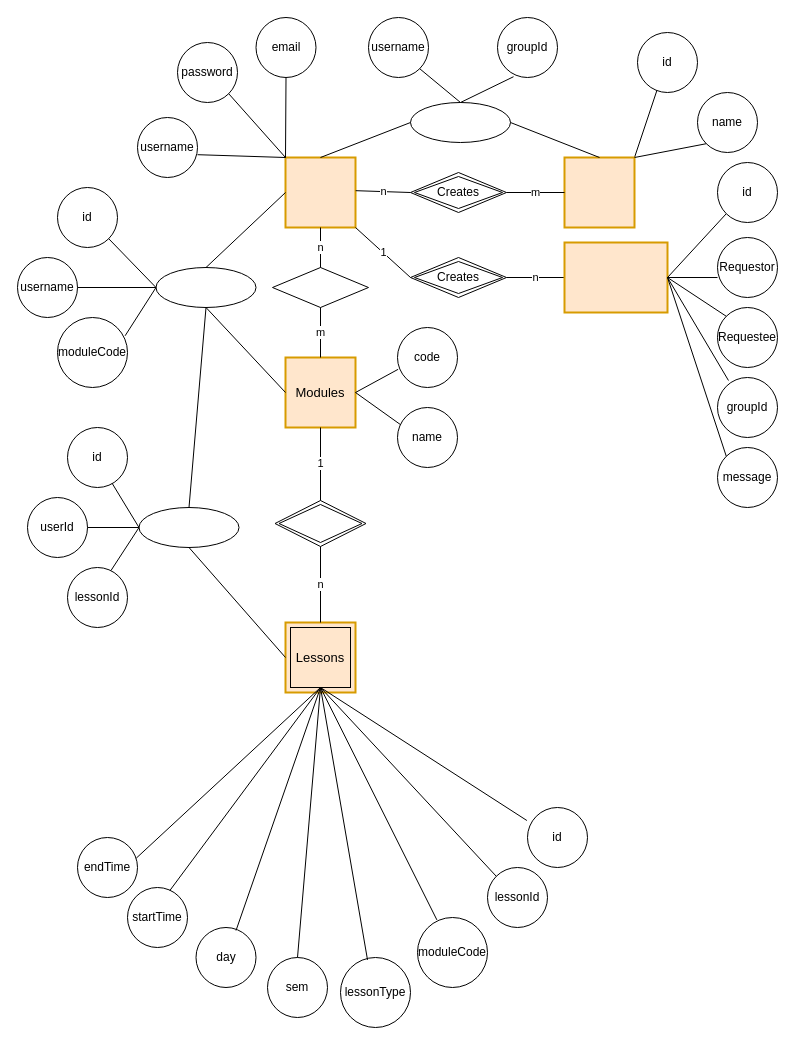
The diagram is 795 pixels wide and 1045 high, and some of its shapes have lost their labels. Each missing label, with the centre of its shape:
"GroupRequests" goes at pixel 615 277.
"Groups" goes at pixel 599 192.
"Has" goes at pixel 320 523.
"Studies" goes at pixel 320 287.
"User_Modules" goes at pixel 205 287.
"User_Modules_ Lessons" goes at pixel 188 527.
"Users" goes at pixel 320 192.
"Users_Groups" goes at pixel 460 122.
